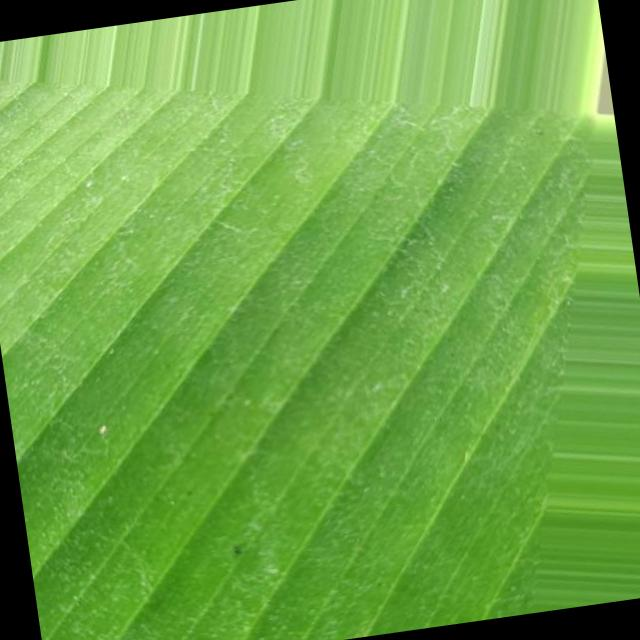Banana_Healthy: (35, 98, 494, 598)
